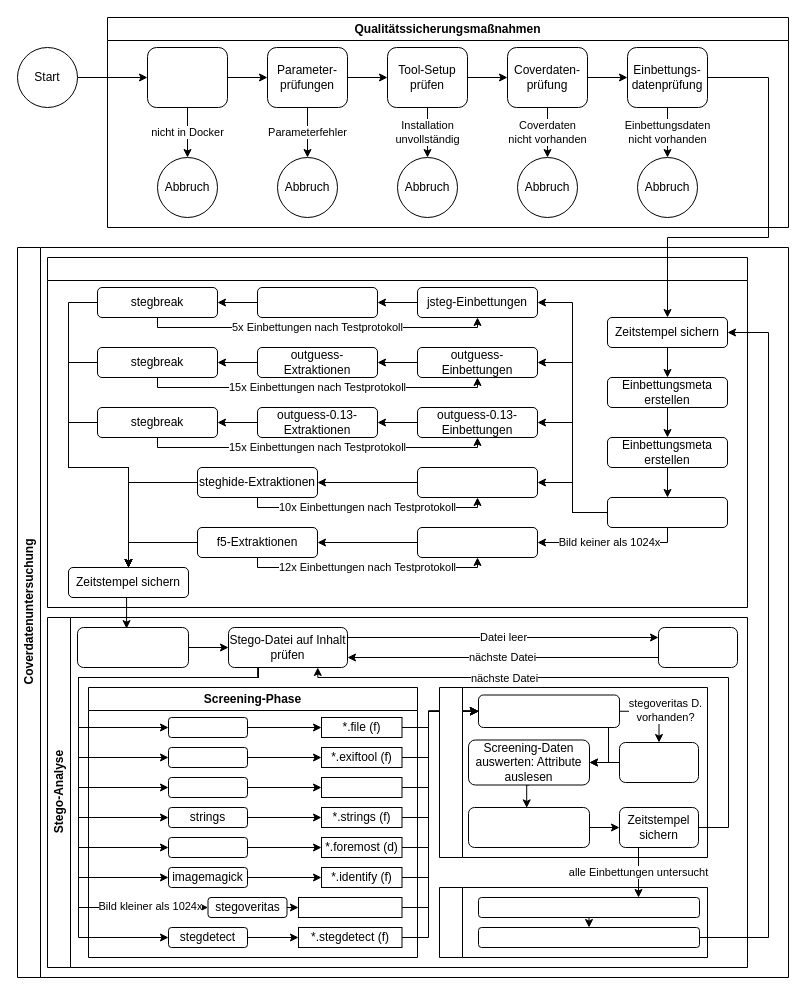
The diagram is 806 pixels wide and 995 high, and some of its shapes have lost their labels. The shapes that lost their labels are listed below. From the top down, each one's box as (x1, y1, x2, y2) in pixels, then its label:
(146, 46, 228, 108): Docker Umgebungs-prüfung
(256, 286, 378, 318): jsteg-Extraktionen
(46, 256, 748, 608): Einbettungsphase
(416, 466, 538, 498): steghide-Einbettungen
(606, 496, 728, 528): Coverbild-Auflösung ermitteln
(416, 526, 538, 558): f5-Einbettungen
(76, 626, 188, 668): CSV-Header für Analyse vorbereiten
(658, 626, 738, 668): Analyse überspringen
(168, 716, 248, 738): file
(478, 694, 620, 728): Einbettungsdaten: Prüfsummen vergleichen
(168, 746, 248, 768): exiftool
(438, 686, 708, 858): Parsing-Phase
(618, 742, 698, 782): Differenzbilder auswerten
(168, 776, 248, 798): binwalk
(320, 776, 402, 798): *.binwalk (f)
(168, 836, 248, 858): foremost
(468, 806, 590, 848): Ergebnisse in Cover-CSV schreiben
(298, 896, 402, 918): *.stegoveritas (d)
(438, 886, 708, 958): Evaluation
(478, 896, 700, 918): erweiterte Auswertung*
(478, 926, 700, 948): Ergebnisse in CSV schreiben
